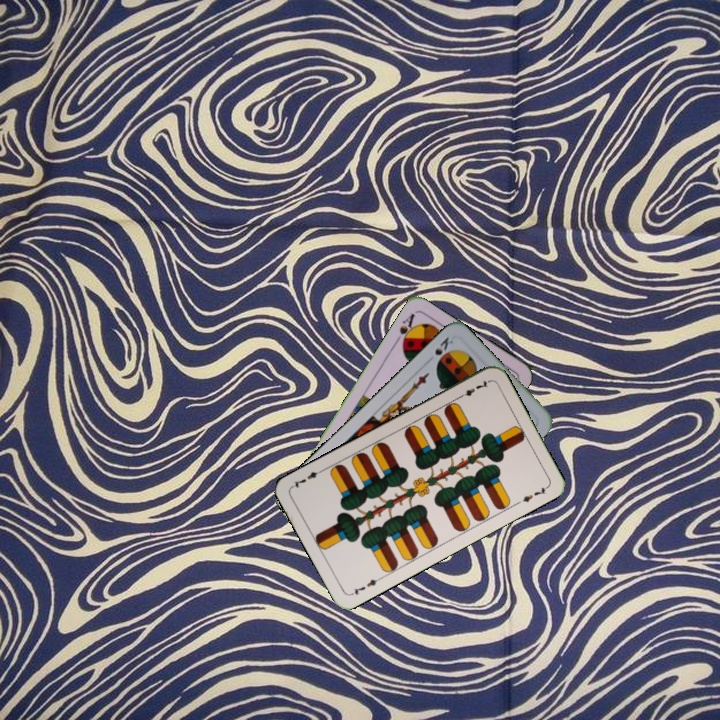E7: (454, 376, 492, 401), (347, 573, 384, 598)
SA: (391, 309, 419, 349)
SK: (431, 332, 456, 358)
